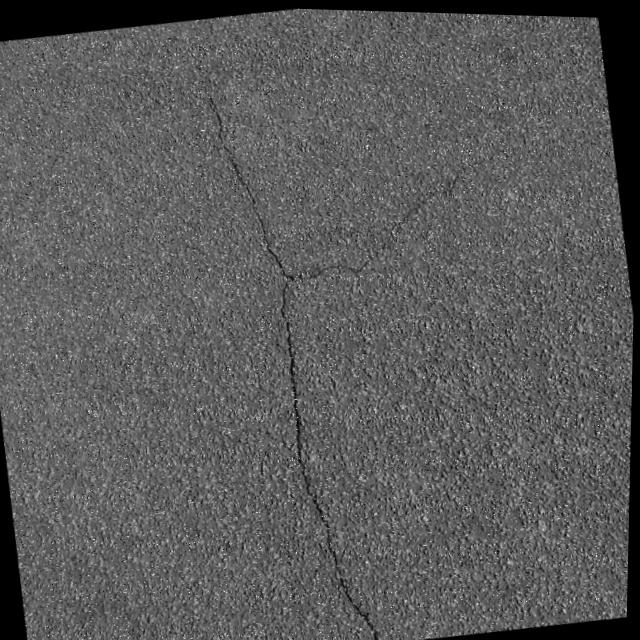Crack: (187, 46, 547, 640)
